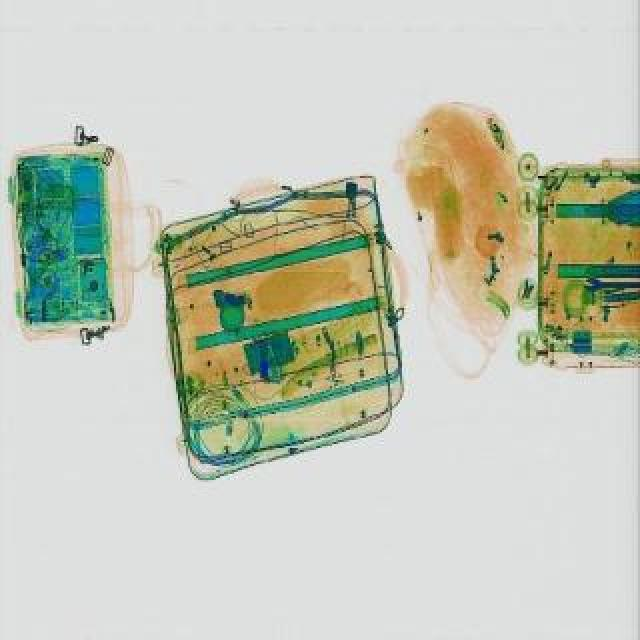scissors: (584, 278, 638, 298)
